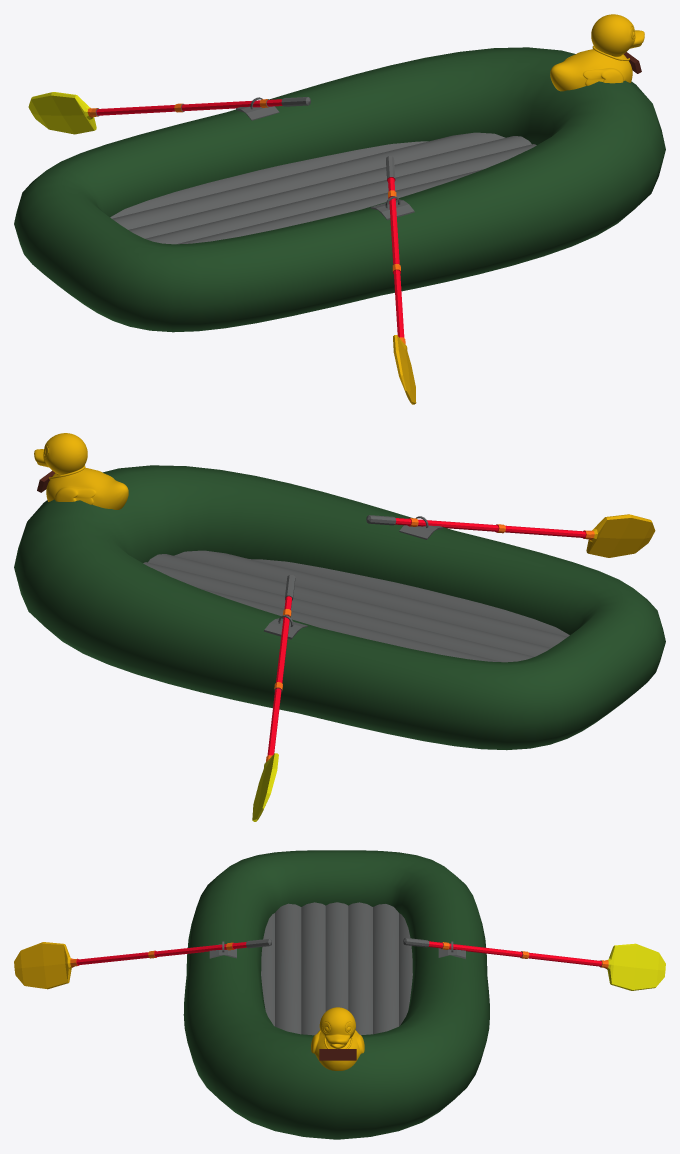
File: RubertoAnimated.fbx
3 views of the same model, one above another, from view 1: azimuth 30°, elevation 25°; view 2: azimuth 150°, elevation 25°; view 3: azimuth 270°, elevation 25° (orthographic). The views are drawn at different scales.
Parts seen in each view (by area): view 1: Boat, LeftPaddle, RightPaddle; view 2: Boat, RightPaddle, LeftPaddle; view 3: Boat, LeftPaddle, RightPaddle.
Part boxes in pixels (bbox=[...]): Boat: bbox=[14, 14, 665, 332]; LeftPaddle: bbox=[28, 92, 310, 134]; RightPaddle: bbox=[386, 156, 416, 404]; Boat: bbox=[14, 433, 665, 750]; RightPaddle: bbox=[366, 514, 655, 557]; LeftPaddle: bbox=[252, 575, 295, 821]; Boat: bbox=[183, 850, 489, 1139]; LeftPaddle: bbox=[403, 937, 665, 990]; RightPaddle: bbox=[14, 938, 271, 989].
Bounding box in the file's own units: 621 × 160 × 698.
